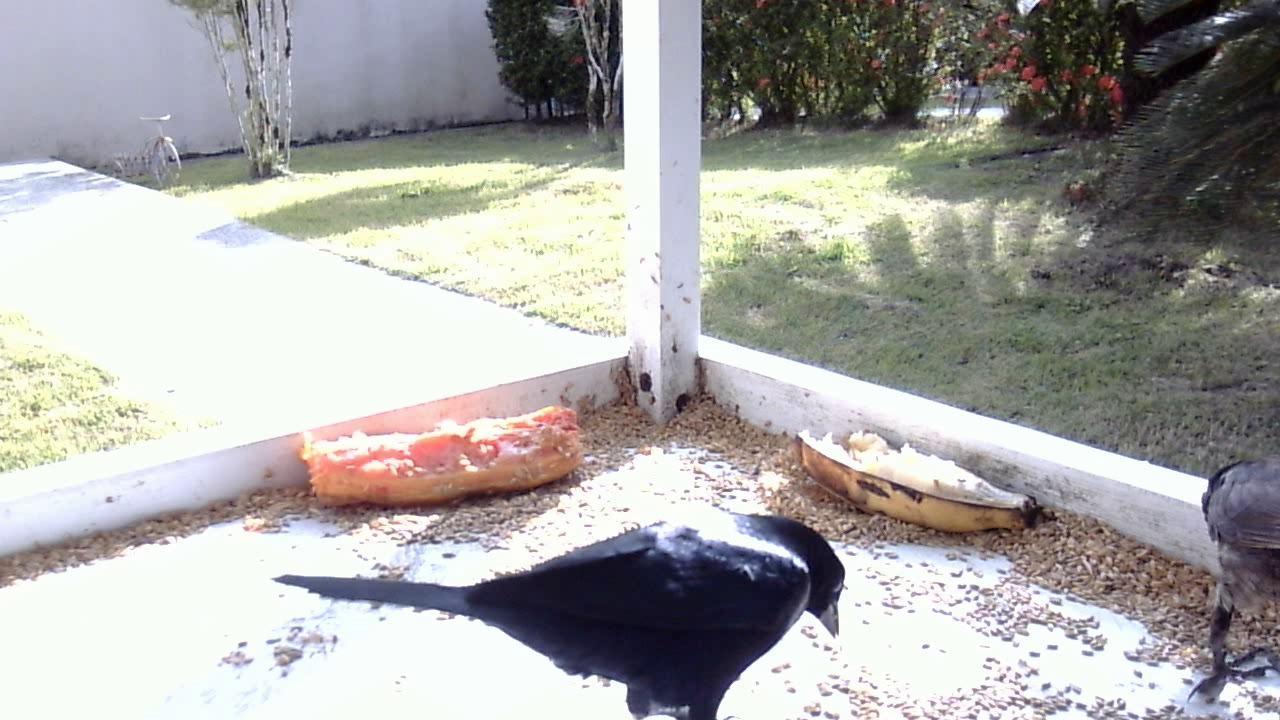chupim: (264, 460, 862, 715), (1169, 442, 1278, 712)
